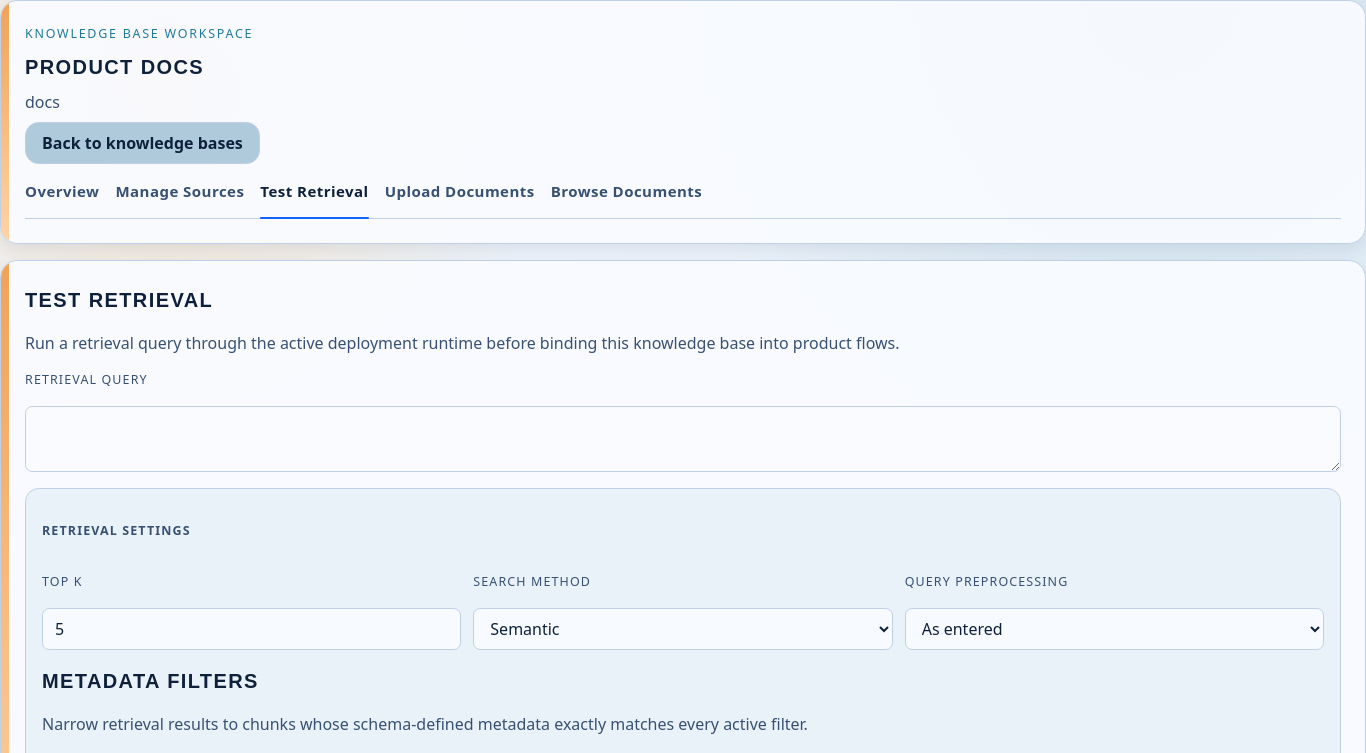
Test: ContextKnowledgeBaseWorkspace pages › lets the operator switch retrieval search method to keyword
Check: the heading "Test retrieval" is shown, box [25,289,213,311]
Type "How does retrieval work?" into the text box labelled "Retrieval query" at (683,439), box [25,406,1341,472]
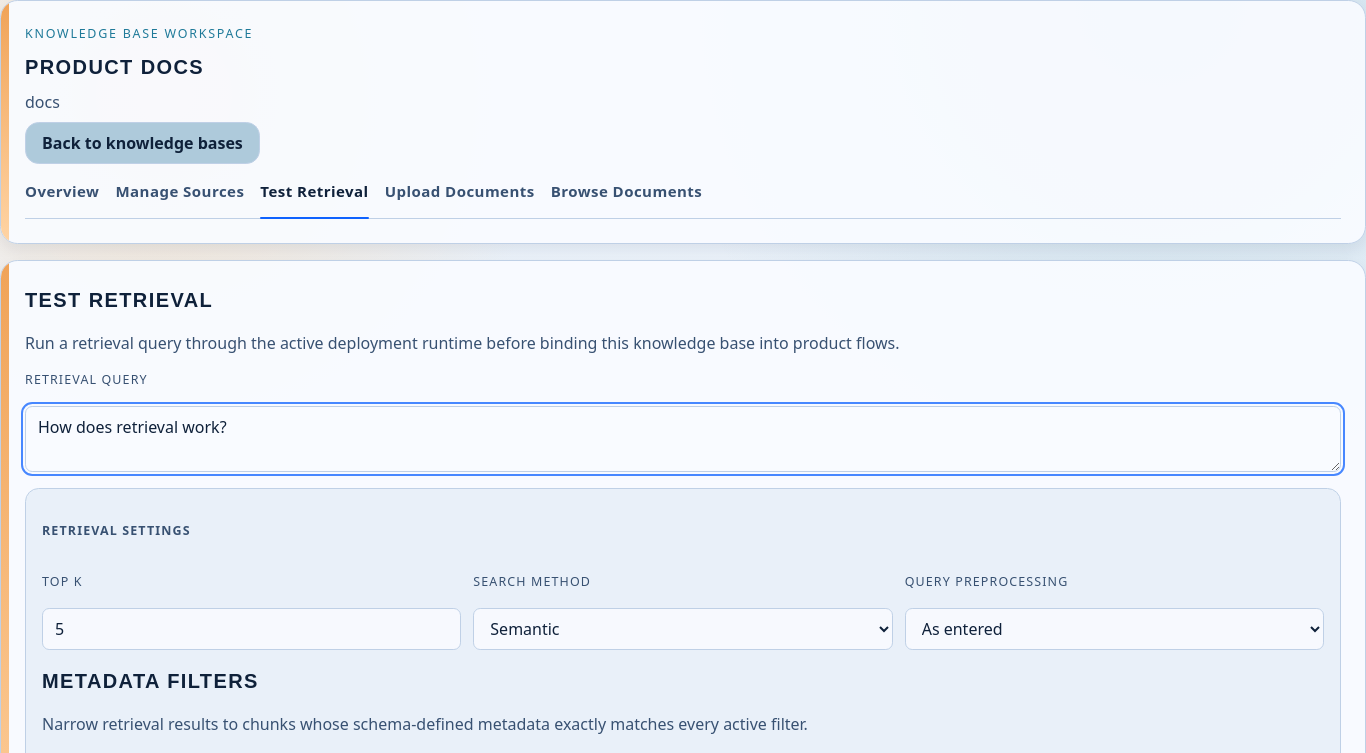
Select "Keyword" in the dropdown labelled "Search method" at (683,629), box [473,608,893,650]
(page scrolled)
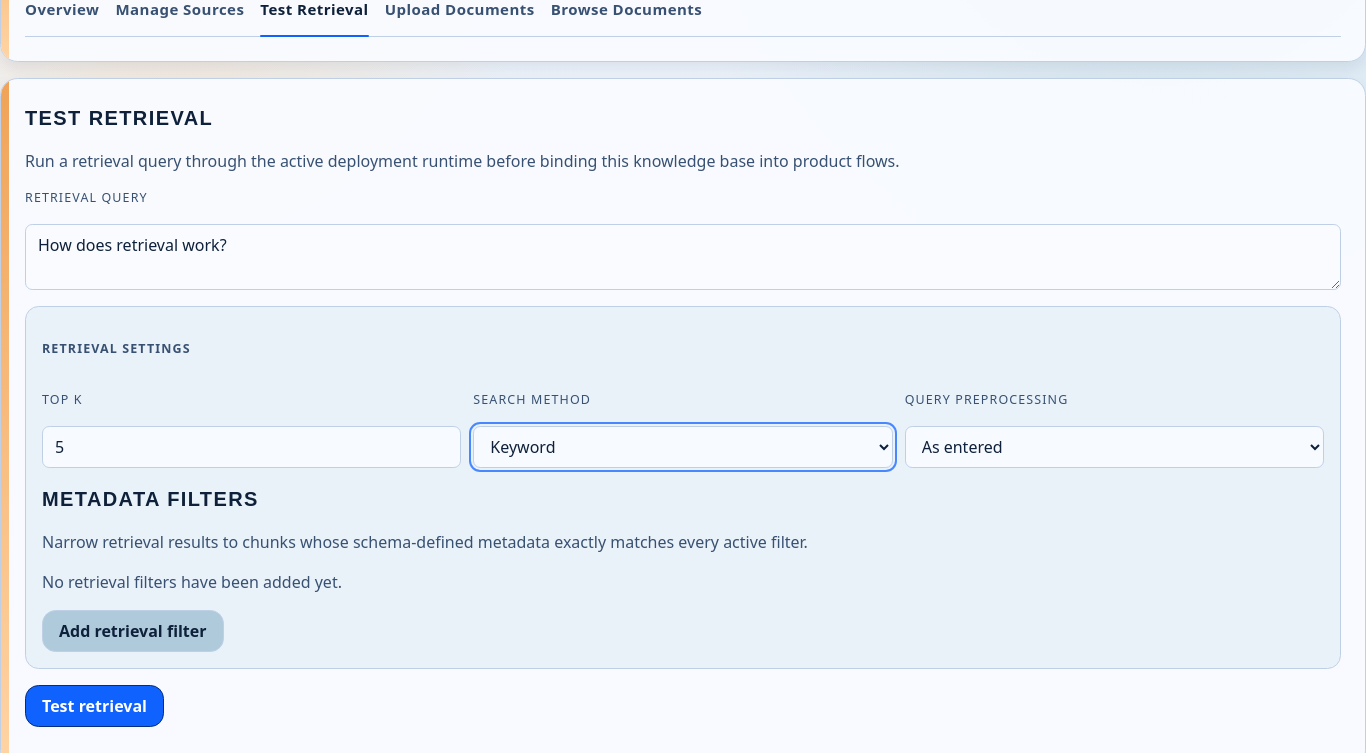
Click the button "Test retrieval" at (94,706), box [25,685,164,727]
(page scrolled)
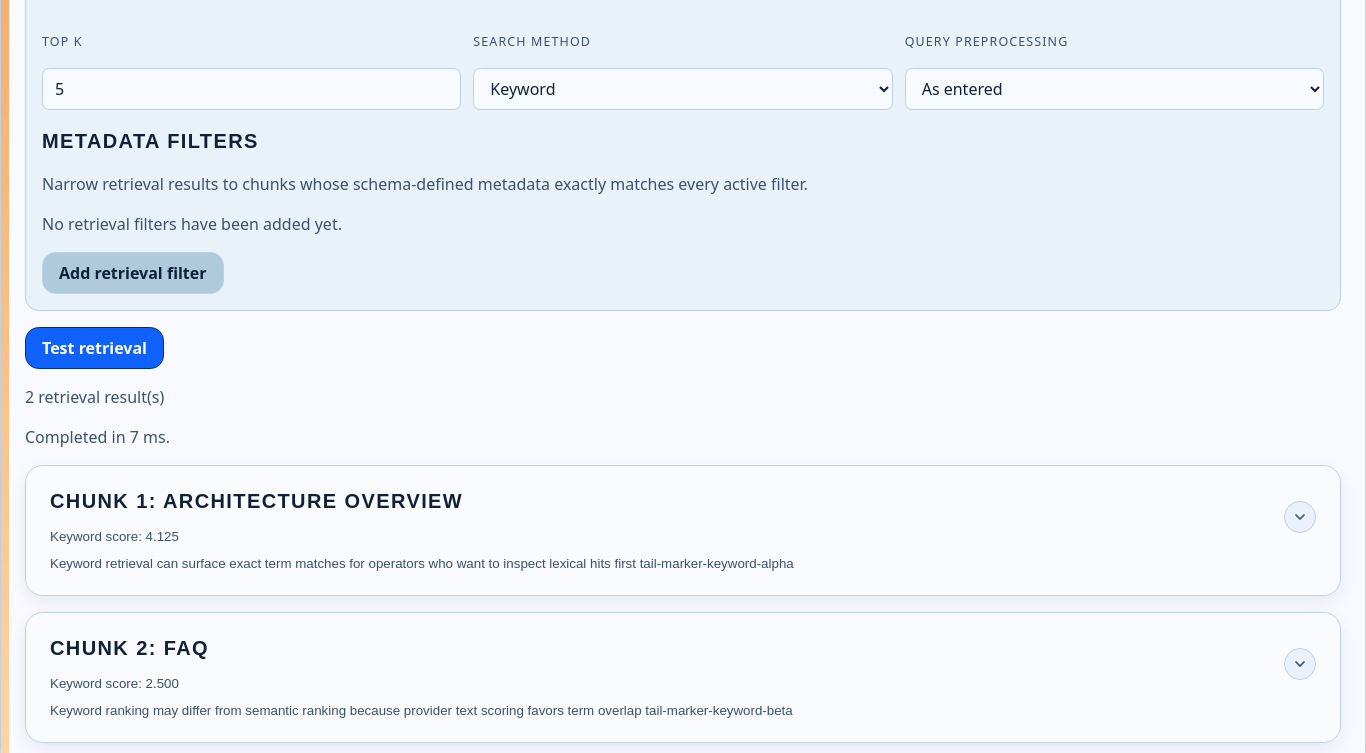
Check: the heading "Chunk 1: Architecture Overview" is shown, box [50,490,463,513]
Check: the text "Keyword score: 4.125" is shown, box [50,529,179,544]
Check: the text "Keyword score: 2.500" is shown, box [50,676,179,691]
Click the button with aria-label "Expand retrieval result for Chunk 1: Architecture Overview" at (257,501), box [50,490,1316,571]
(page scrolled)
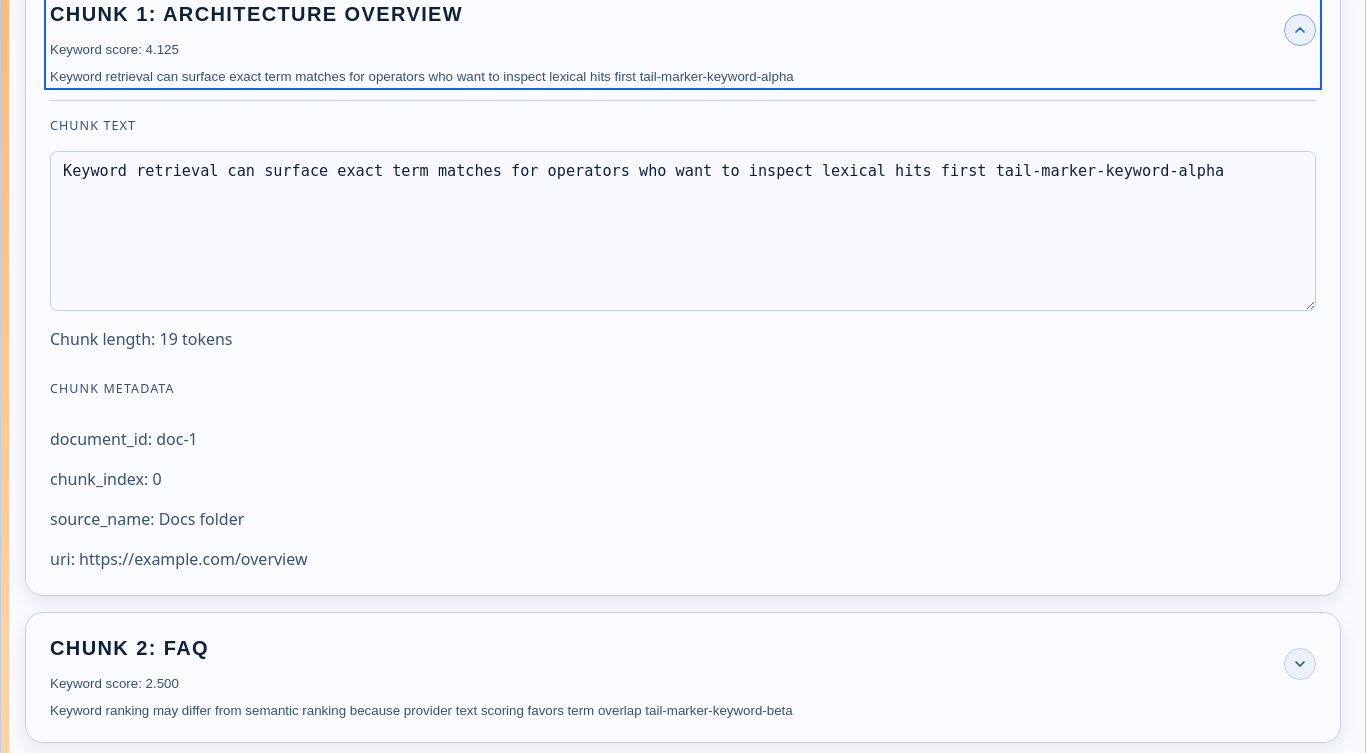
Check: the text box labelled "Chunk text" holds "Keyword retrieval can surface exact term matches for operators who want to inspect lexical hits first tail-marker-keyword-alpha", box [50,151,1316,311]
Check: the text "Chunk length: 19 tokens" is shown, box [50,328,232,350]
Check: the text "document_id: doc-1" is shown, box [50,428,198,450]
